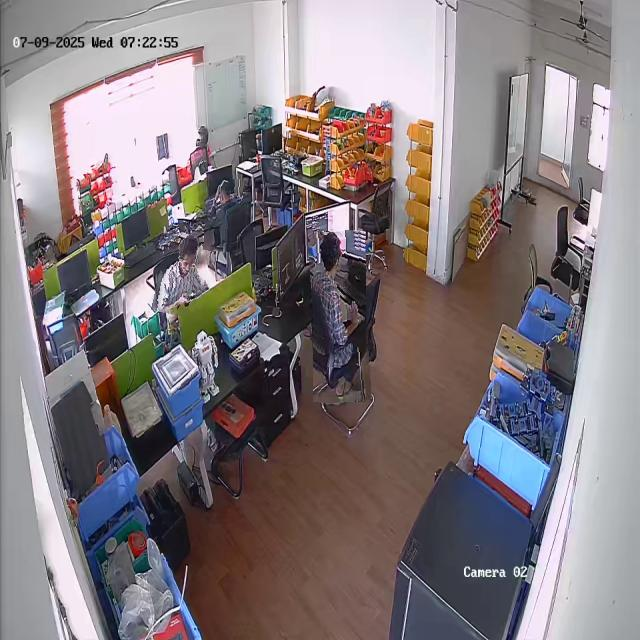person: (310, 230, 369, 403), (156, 232, 210, 318), (204, 178, 243, 252)
